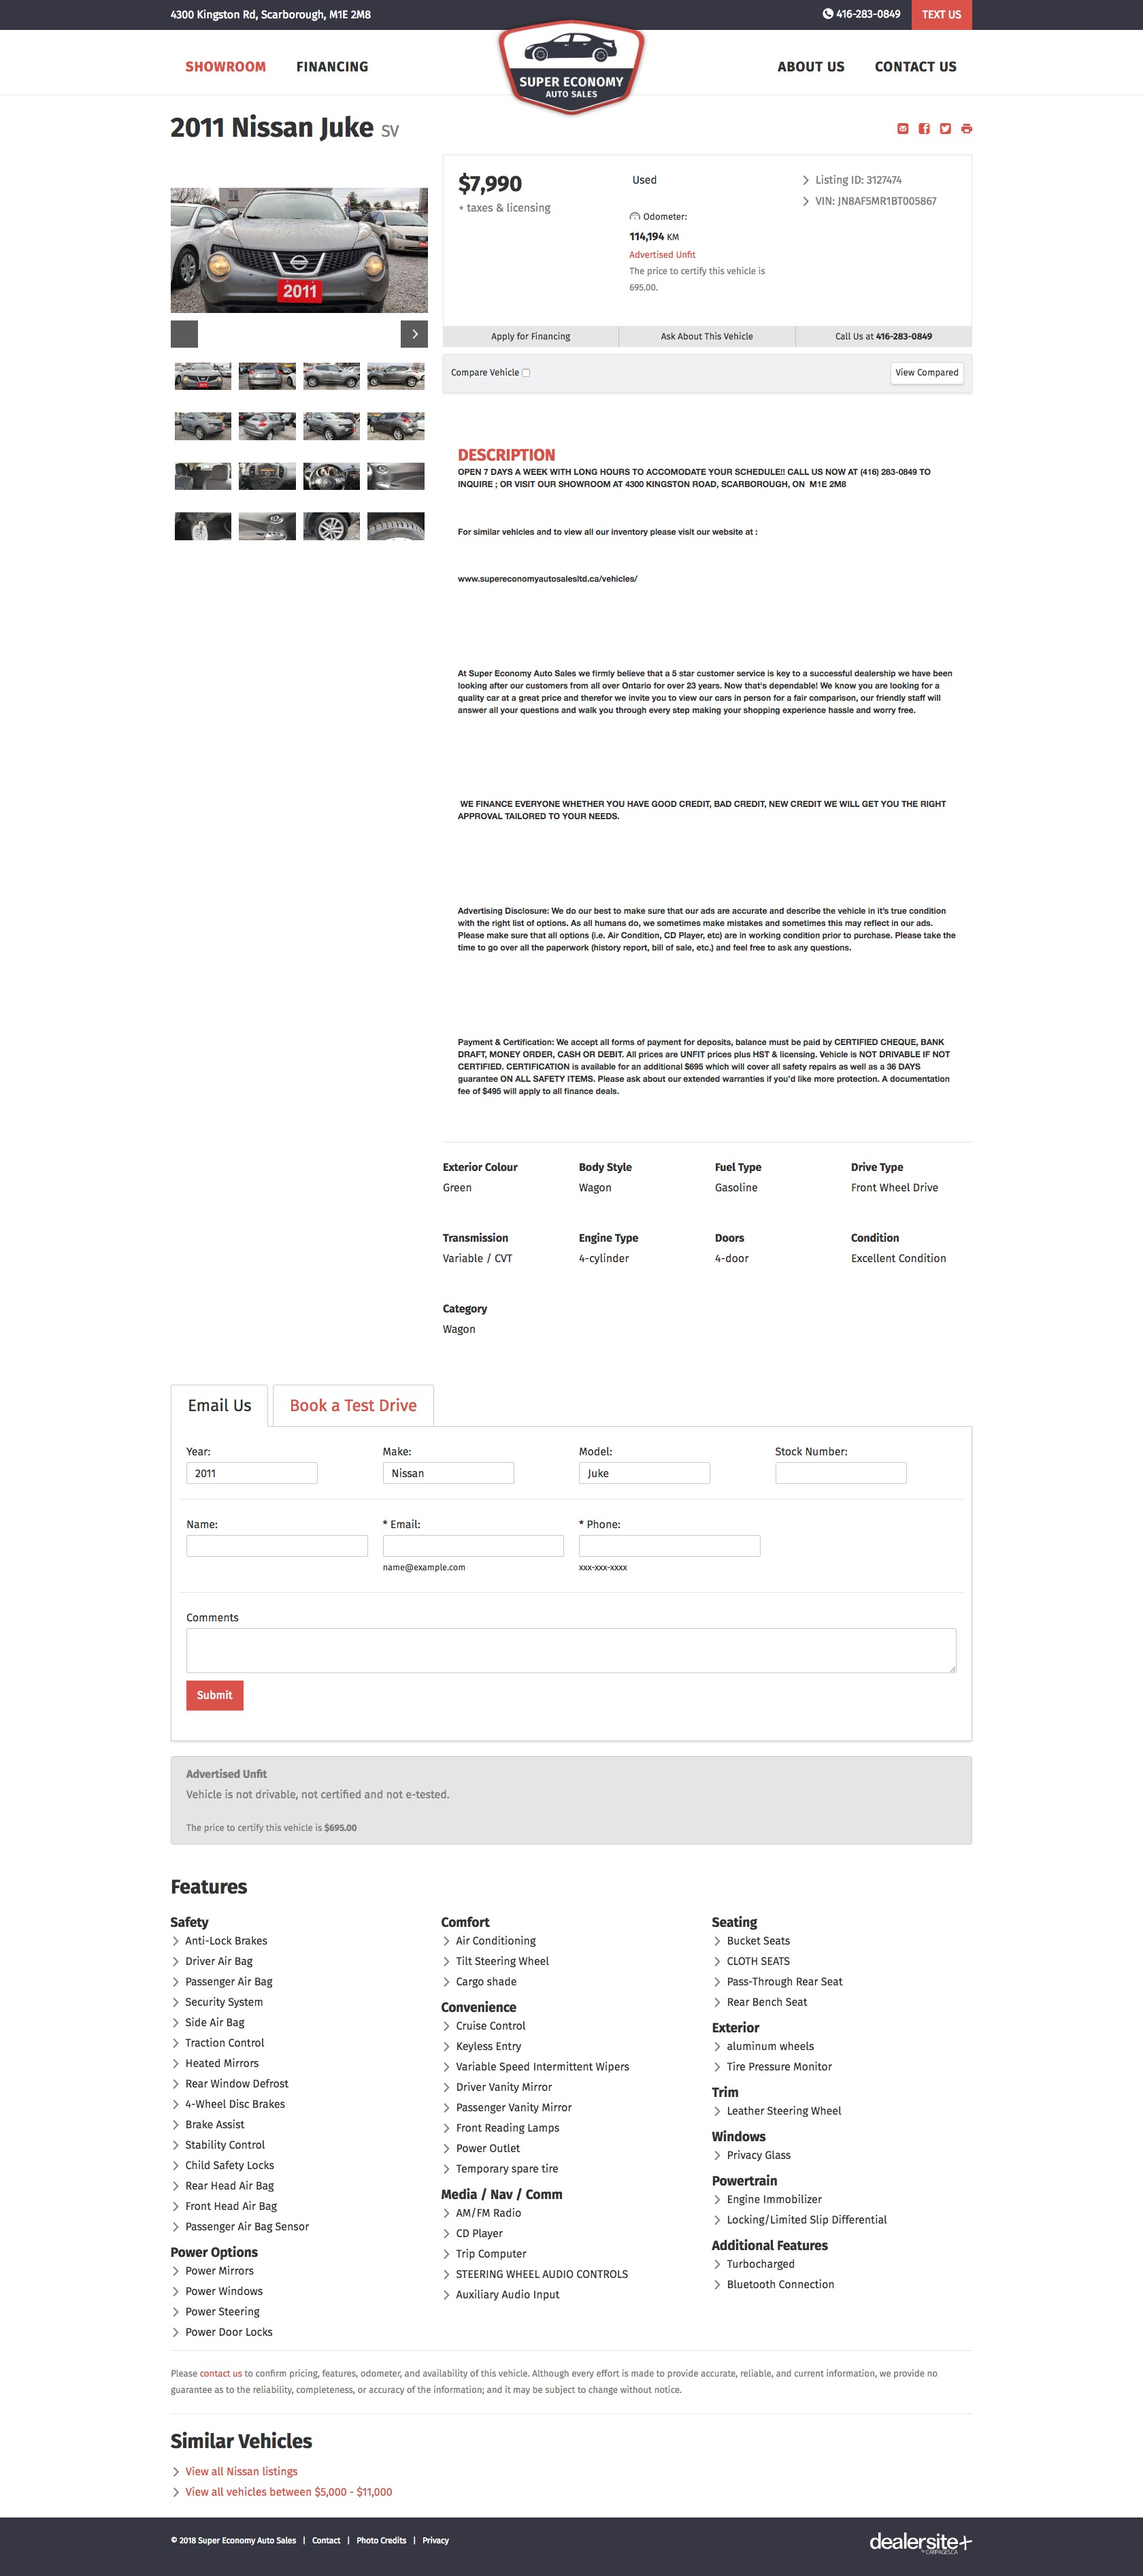car: (401, 320, 429, 350)
